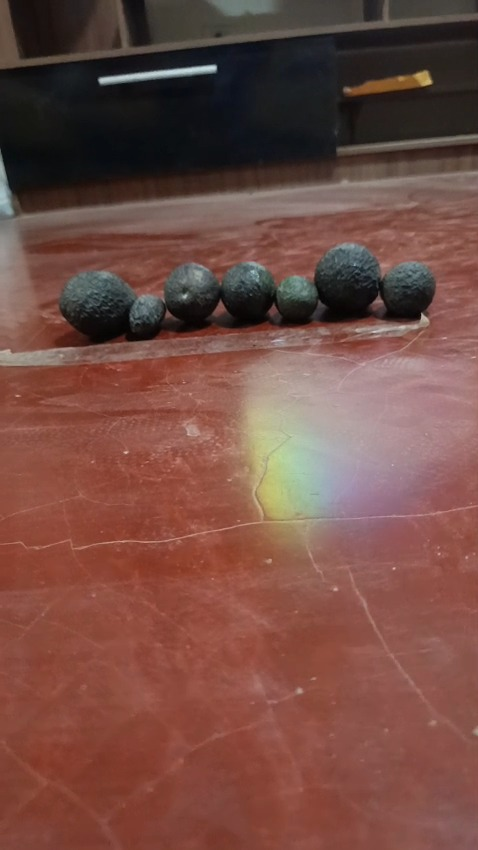Primera: (59, 269, 135, 339), (314, 242, 381, 315)
Segunda: (163, 262, 220, 324), (221, 261, 277, 322), (380, 261, 436, 318)
Tercera: (275, 275, 318, 323), (128, 294, 165, 339)
